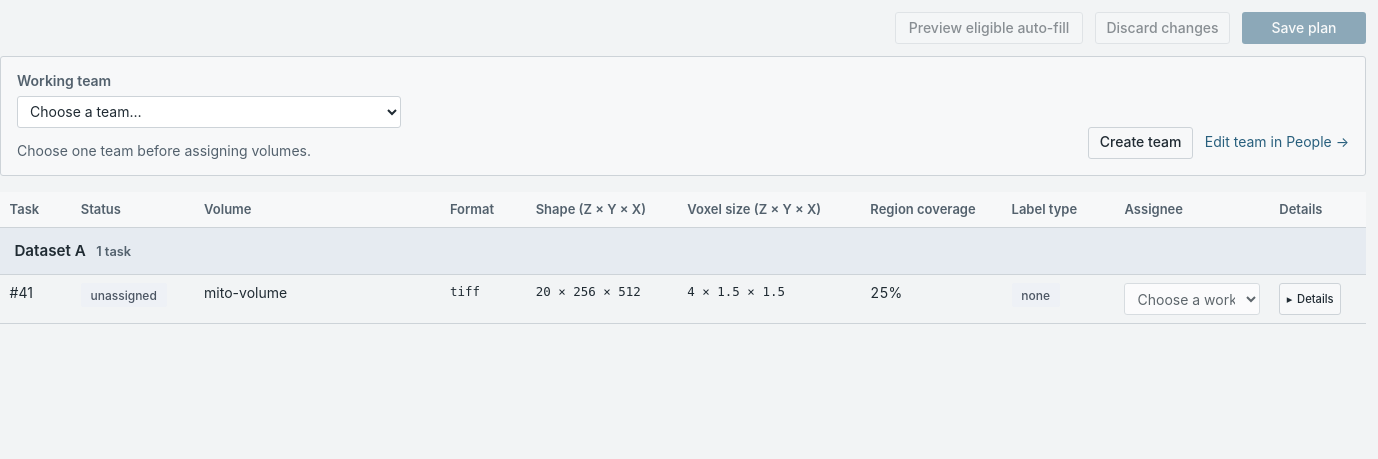
AssignmentPlanEditor annotation time column › shows 0m for an eligible volume nobody has annotated yet
Check: the dropdown labelled "Working team" is shown, box [17,96,401,128]
Click the button "▸ Details" at (1310, 299), box [1279,283,1341,315]
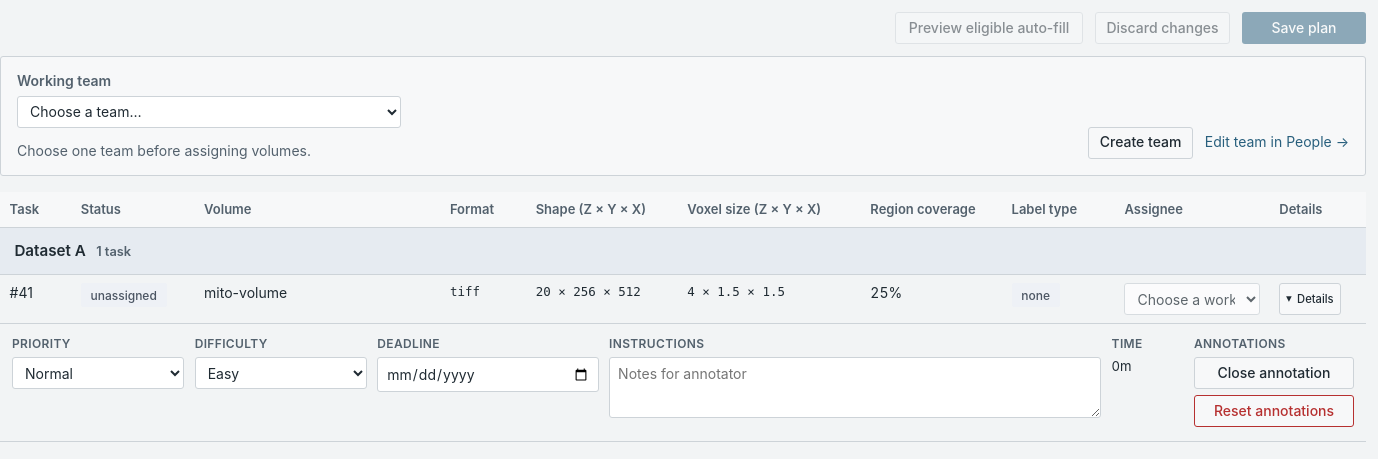
Check: the text with class "annotation-time" reads "0m", box [1112,358,1132,374]
